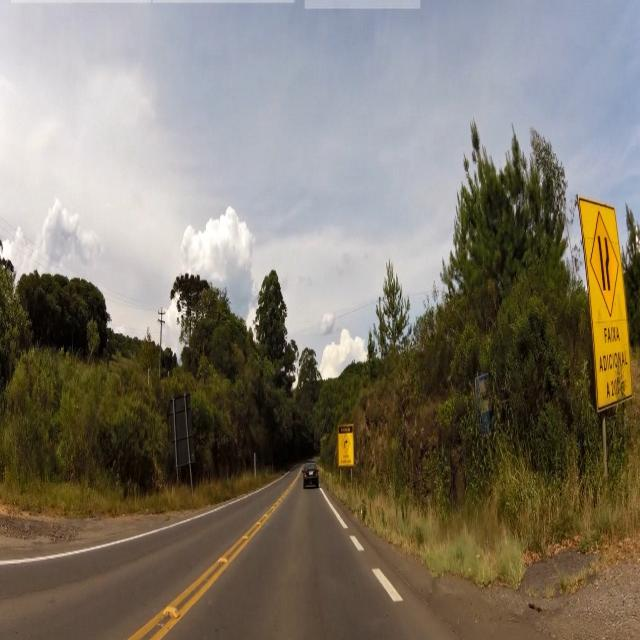A-21e: (572, 190, 620, 311)
